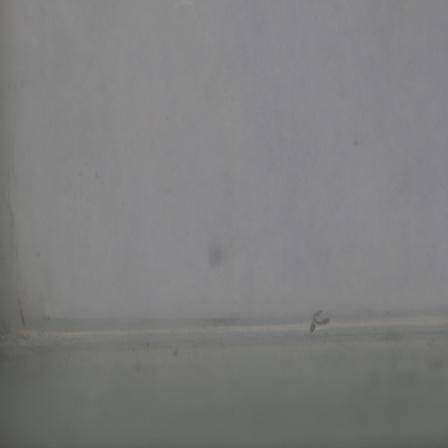Jentik-Nyamuk: (306, 305, 337, 339)
